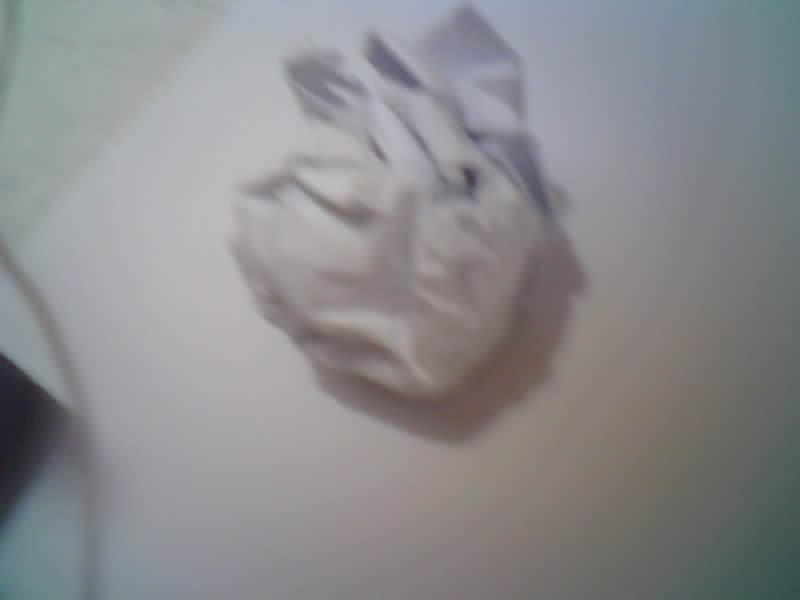biodegradable: (231, 6, 552, 395)
